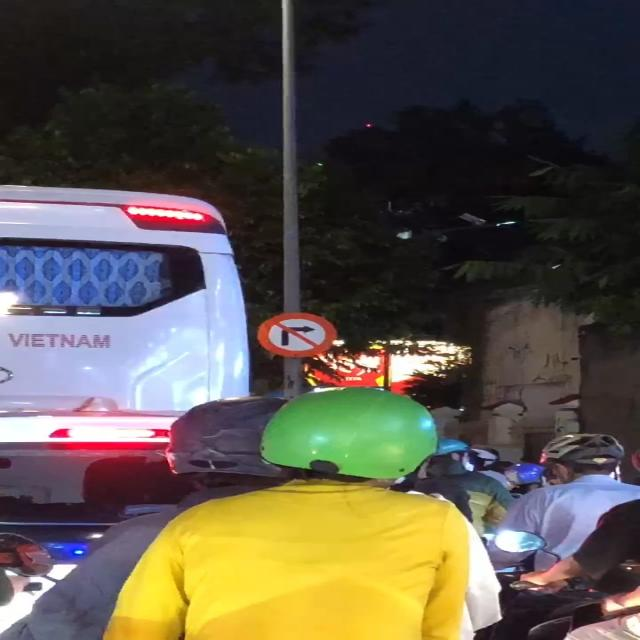Bien bao cam re phai: (252, 306, 341, 362)
